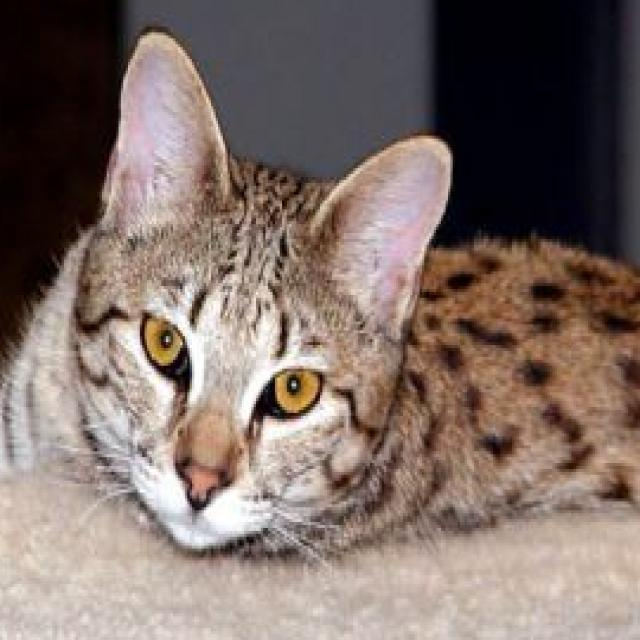Bengal: (0, 24, 640, 566)
